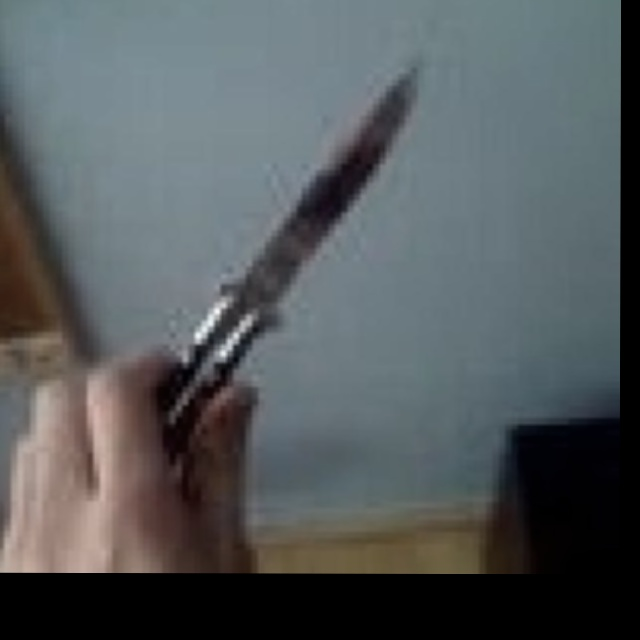Sharp-Object: (164, 72, 418, 461)
